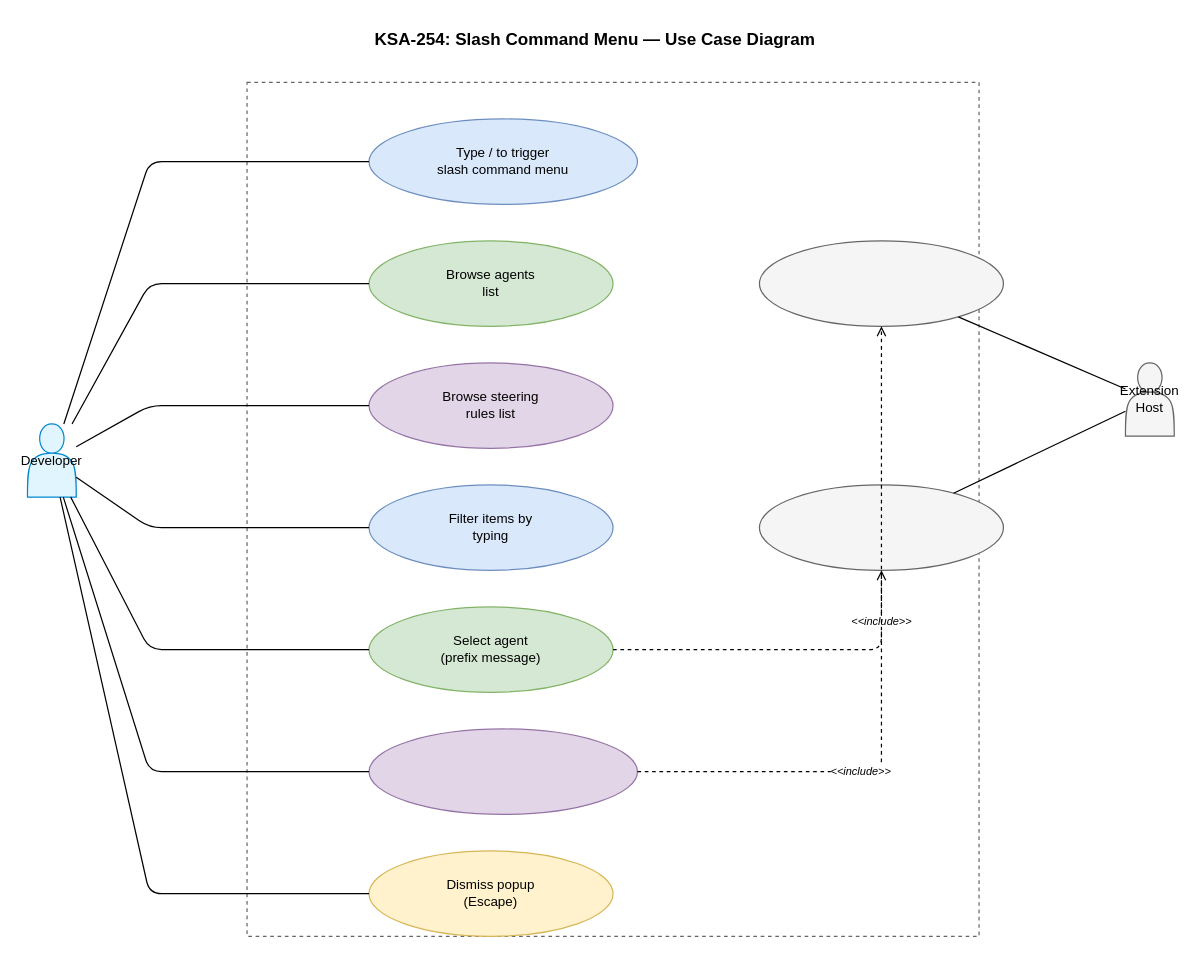
The diagram is 1199 pixels wide and 958 high, and some of its shapes have lost their labels. The box of each missing label's shape, as (x1, y1, x2, y2) in pixels:
Chat Panel Webview: (246, 81, 979, 936)
Load steering file content: (758, 484, 1003, 570)
Route message to target agent: (758, 240, 1003, 326)
Select steering rule (attach as context): (368, 728, 637, 814)
